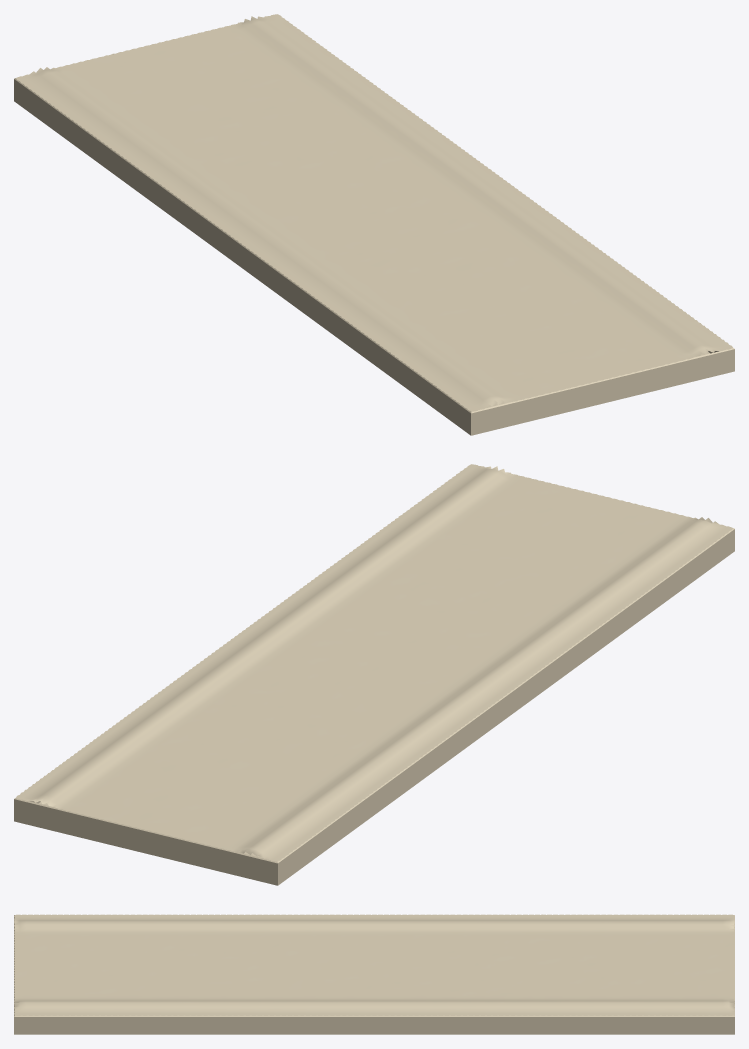
Rendered from mahsulot.glb.
3 views of the same model, one above another, from view 1: azimuth 30°, elevation 25°; view 2: azimuth 150°, elevation 25°; view 3: azimuth 270°, elevation 25° (orthographic). The views are drawn at different scales.
Visible parts, largest first — view 1: mahsulot; view 2: mahsulot; view 3: mahsulot.
Boxes of the visible parts, bbox=[...] form: mahsulot: bbox=[14, 14, 734, 435]; mahsulot: bbox=[14, 464, 734, 885]; mahsulot: bbox=[14, 914, 734, 1034].
Size of the model in its own units: 0.4 by 0.0394 by 1.2.
